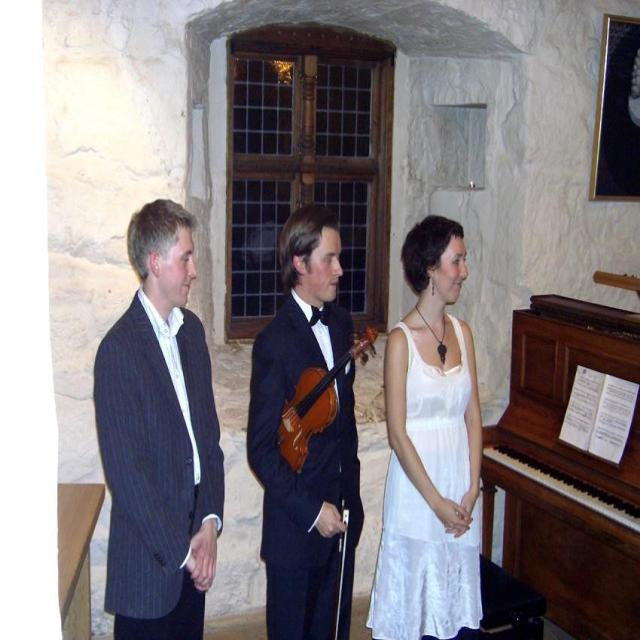violin: (275, 325, 379, 465)
